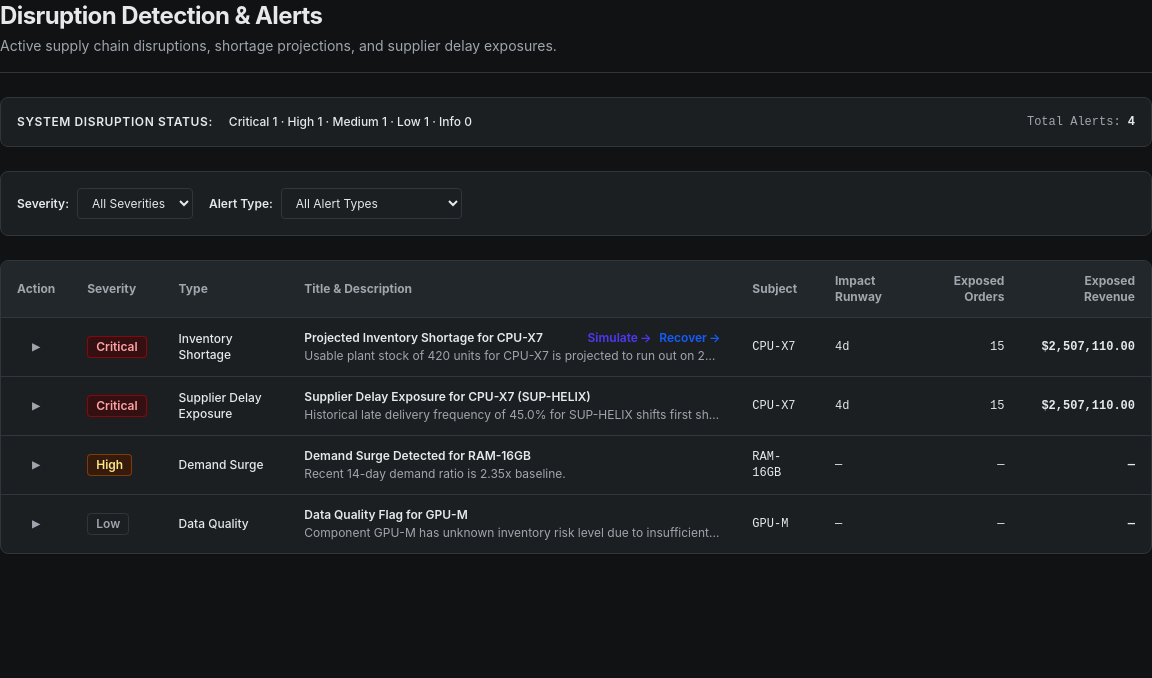
AlertsPage › expands row to show summary, evidence table, assumptions, and customer orders exposure
The image size is (1152, 678).
Click the button with test id "toggle-expand-inventory_shortage.CPU-X7" at (36, 347), box [28,335,44,359]
(page scrolled)
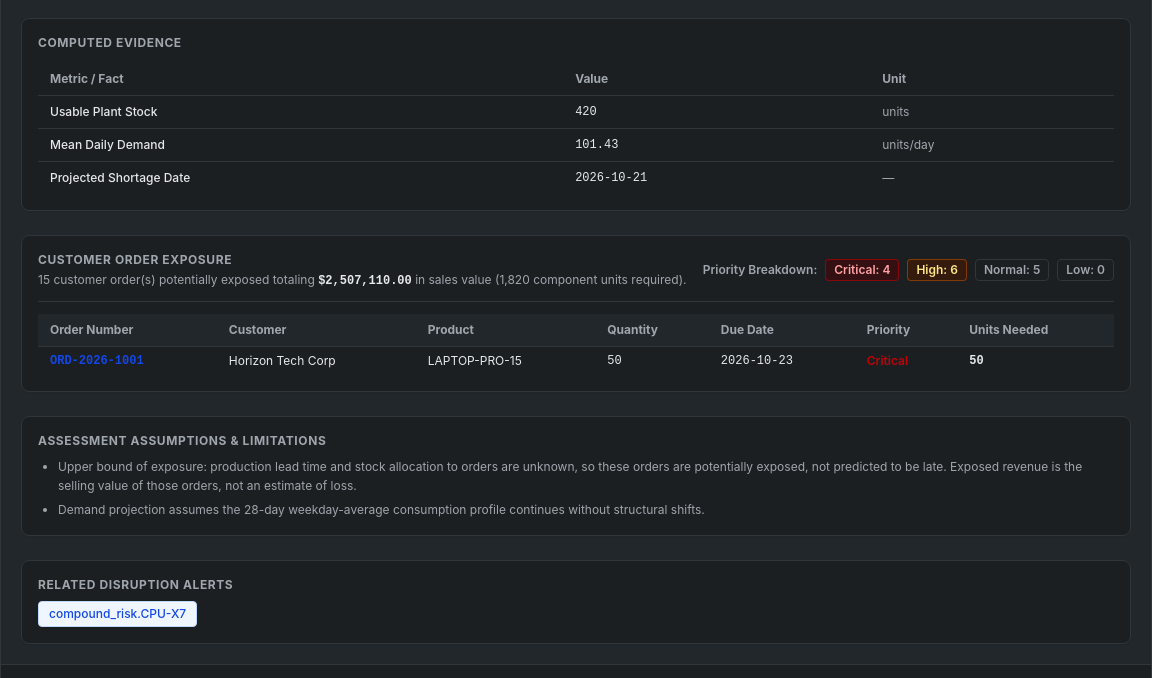
Result: the table with test id "alert-evidence-table" is shown at [38,63,1114,194]
Result: the text "Usable Plant Stock" is shown at [38,95,563,128]
Result: the list with test id "alert-assumptions-list" shows "Upper bound of exposure" at [58,459,1082,493]
